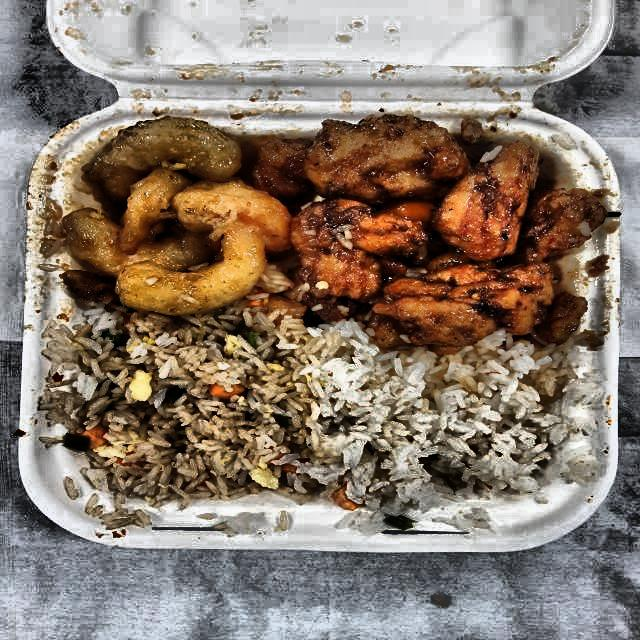Food: (256, 110, 616, 358), (62, 308, 320, 503), (50, 114, 292, 317), (324, 344, 568, 515)
